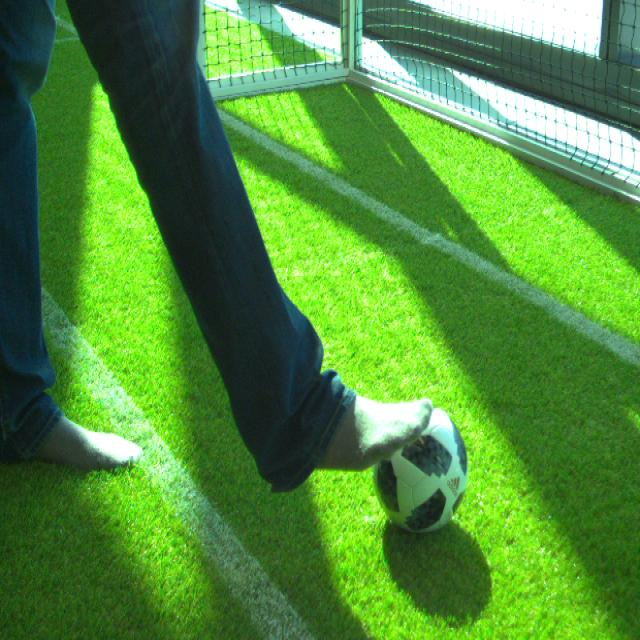ball: (372, 406, 468, 538)
goalpost: (194, 1, 204, 75)
